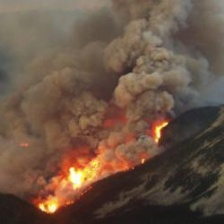fire: (33, 121, 166, 216)
smoke: (6, 1, 219, 130)
